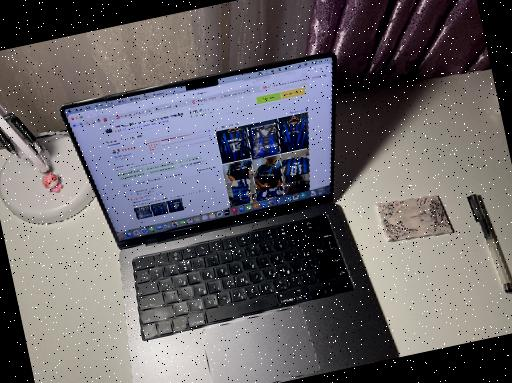aliexpress: (74, 76, 358, 236)
